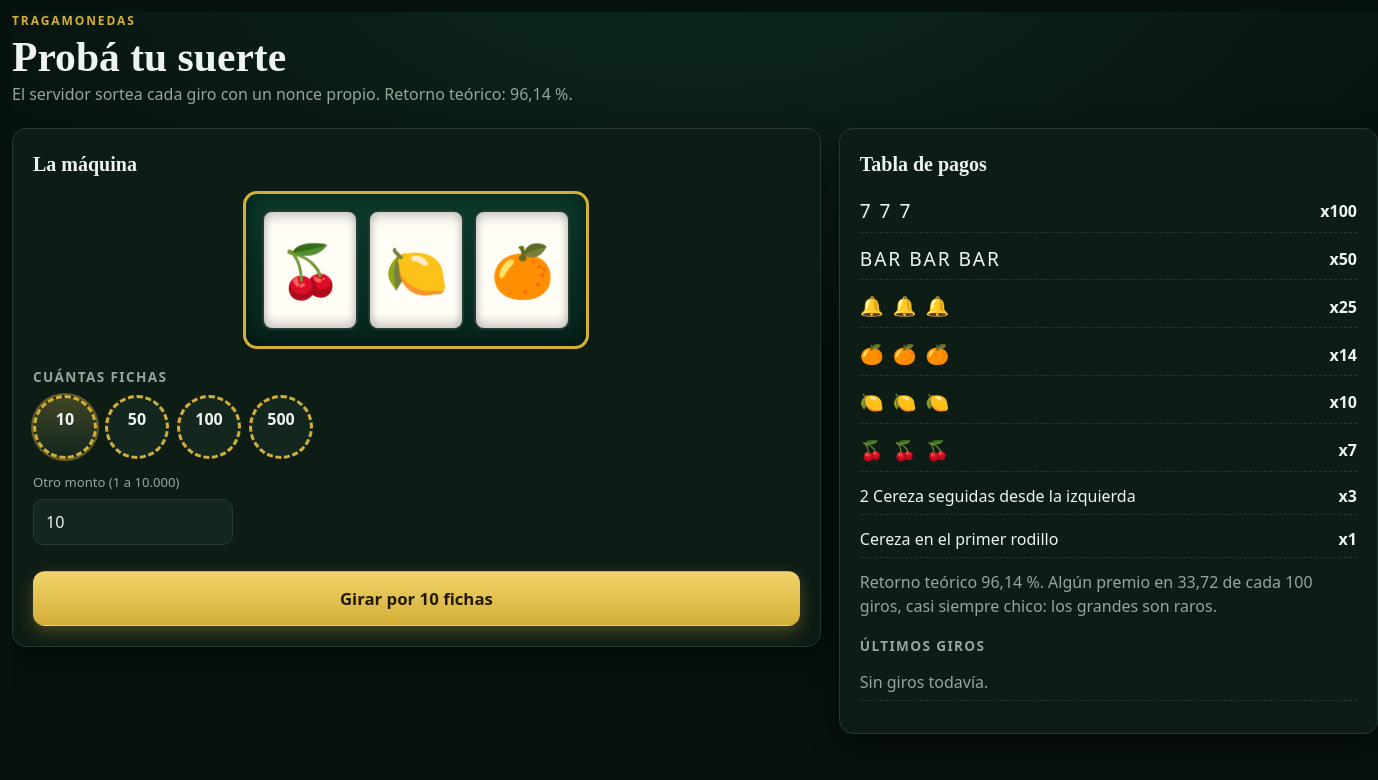
Test case: Slots › locks the amount while the reels are spinning
The image size is (1378, 780).
Click the button "Girar por 10 fichas" at (416, 598), box [33,571,800,626]
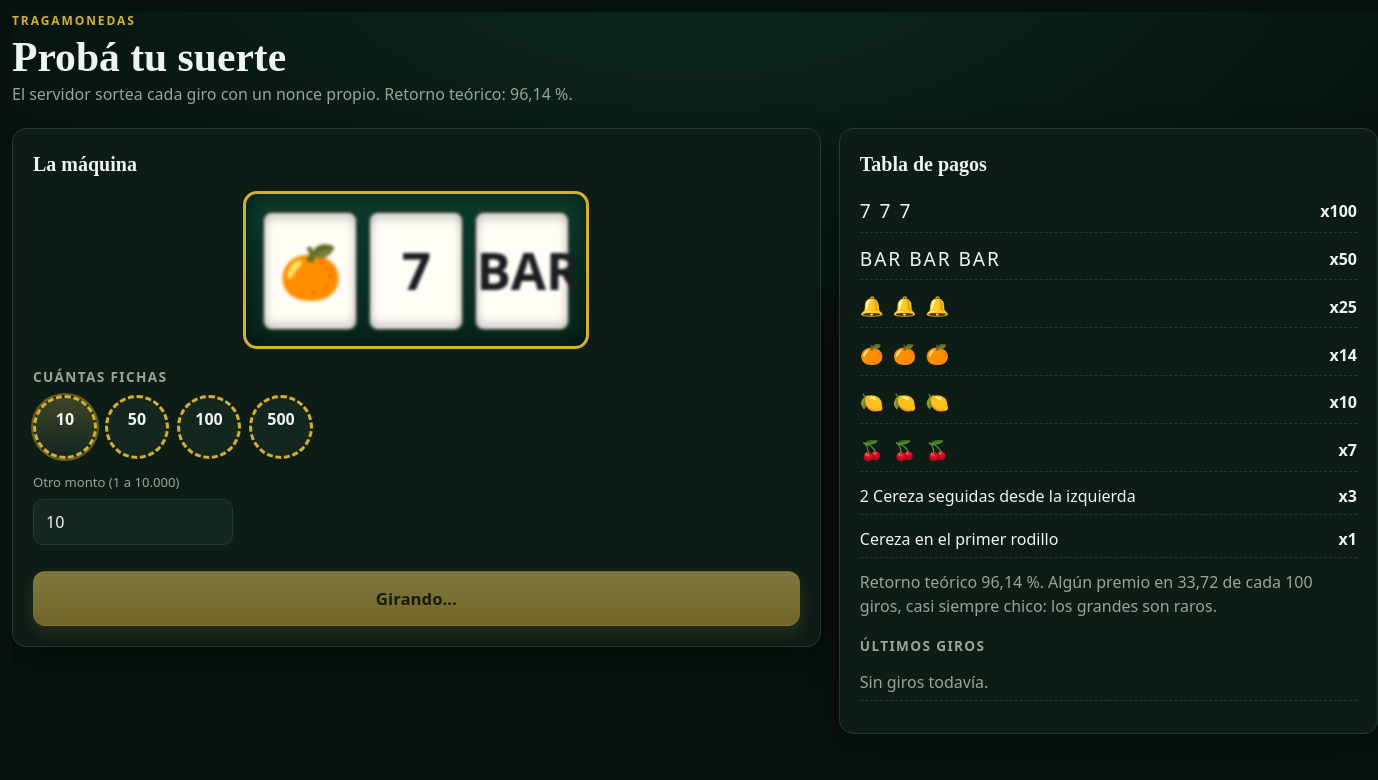
Check: the radio button labelled "50" is disabled, box [105,395,169,459]
Check: the button "Girando…" is disabled, box [33,571,800,626]
